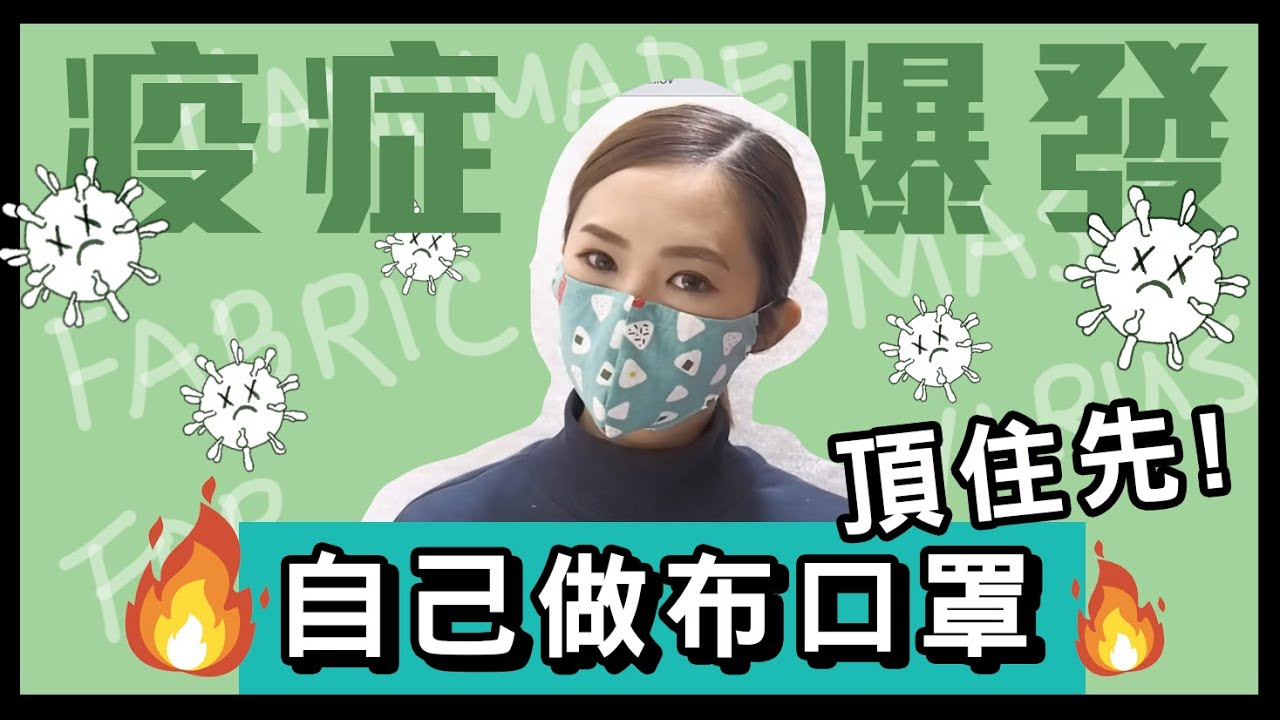Mask: (558, 163, 772, 432)
